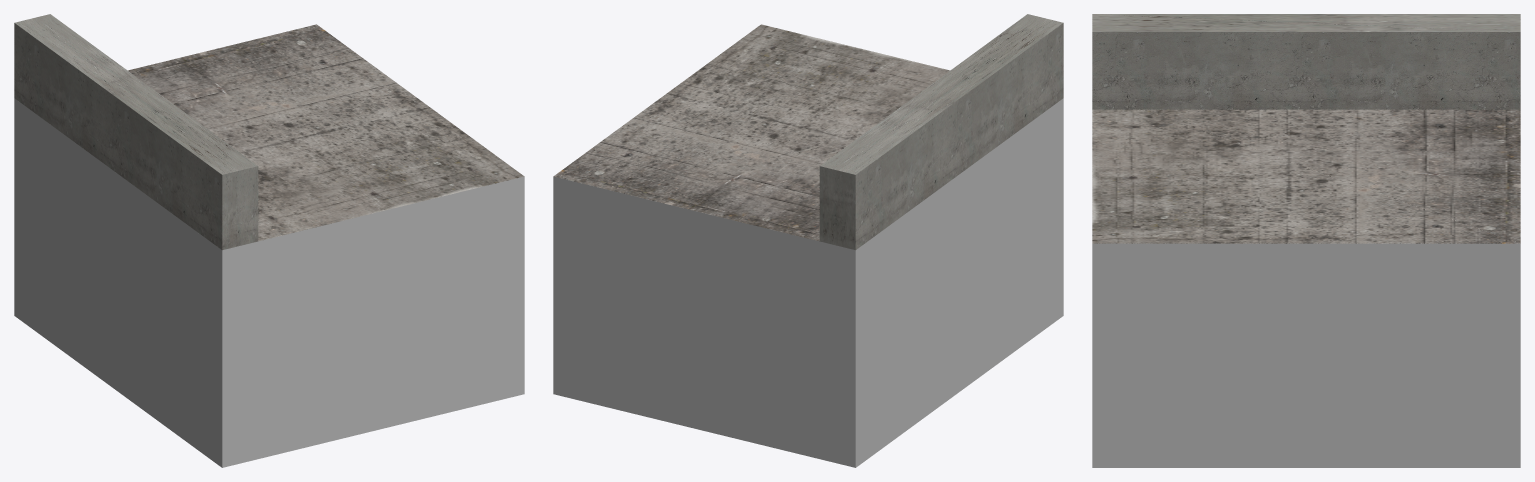
Rendered from BuildingDirty06.FBX.
3 renders of one model, left to right at view 1: azimuth 30°, elevation 25°; view 2: azimuth 150°, elevation 25°; view 3: azimuth 270°, elevation 25°, orthographic. The views are drawn at different scales.
Parts seen in each view (by area): view 1: BuildingDirty06, BuildingDirty06b; view 2: BuildingDirty06, BuildingDirty06b; view 3: BuildingDirty06, BuildingDirty06b.
Boxes of the visible parts, x1,y1,x2,y2 form: BuildingDirty06: [14, 24, 524, 467]; BuildingDirty06b: [14, 14, 258, 250]; BuildingDirty06: [553, 24, 1063, 467]; BuildingDirty06b: [819, 14, 1063, 250]; BuildingDirty06: [1092, 109, 1520, 467]; BuildingDirty06b: [1092, 14, 1520, 109].
Size of the model in its own units: 756 by 700 by 900.
